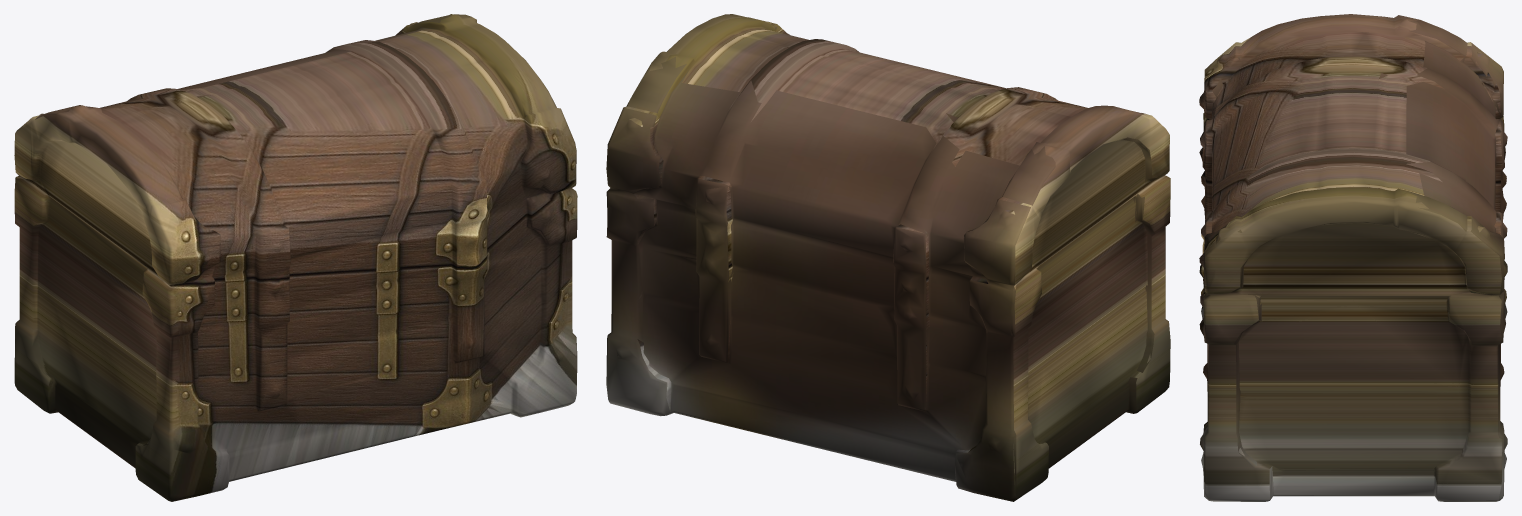
Rendered from trunk.glb.
3 renders of one model, left to right at view 1: azimuth 30°, elevation 25°; view 2: azimuth 150°, elevation 25°; view 3: azimuth 270°, elevation 25°, orthographic. The views are drawn at different scales.
Visible parts, largest first — view 1: trunk; view 2: trunk; view 3: trunk.
Boxes of the visible parts, x1,y1,x2,y2 form: trunk: (14, 14, 577, 501); trunk: (606, 14, 1170, 501); trunk: (1199, 14, 1507, 501).
Bounding box in the file's own units: 4 × 2.97 × 2.73.
Materials: 1 (1 with a texture image).
